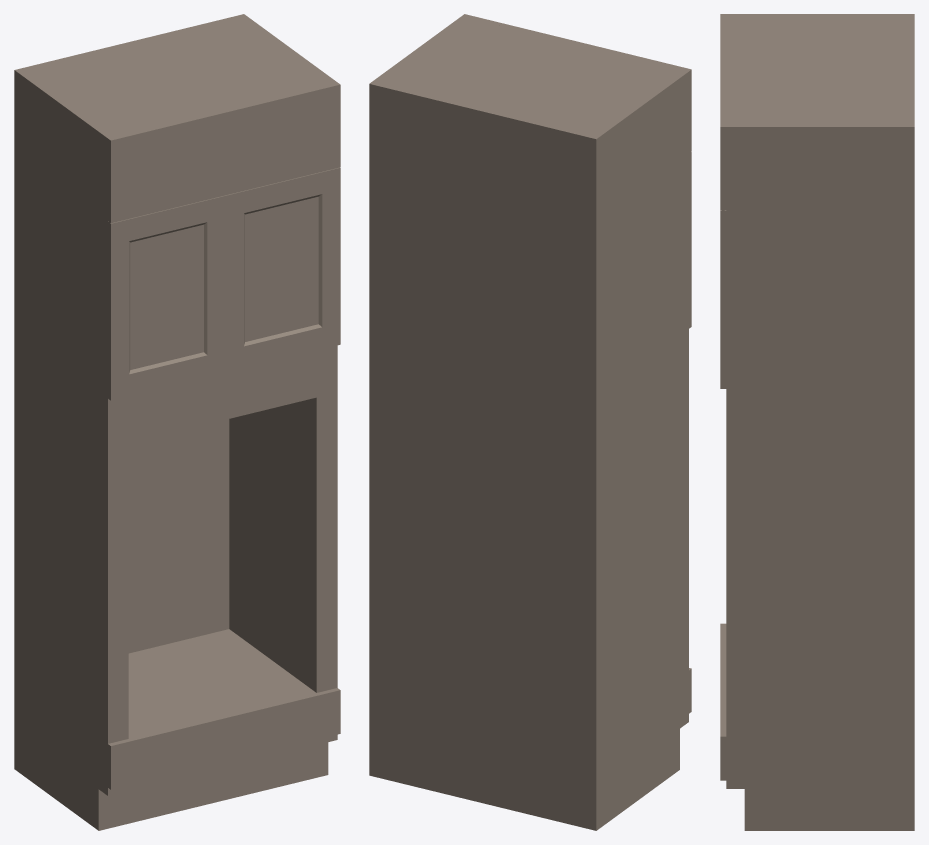
The model's file is WHP-Double-Tall-Oven-Cabinet_std_001_H96in_onlyH.glb.
The picture shows the model from 3 angles, left to right: view 1: azimuth 30°, elevation 25°; view 2: azimuth 150°, elevation 25°; view 3: azimuth 270°, elevation 25°; orthographic projection.
Visible parts, largest first — view 1: WHP-Double-Tall-Oven-Cabinet.std.001_H96in_onlyH; view 2: WHP-Double-Tall-Oven-Cabinet.std.001_H96in_onlyH; view 3: WHP-Double-Tall-Oven-Cabinet.std.001_H96in_onlyH.
Part boxes in pixels (x1,y1,x2,y2): WHP-Double-Tall-Oven-Cabinet.std.001_H96in_onlyH: (14,14,340,830); WHP-Double-Tall-Oven-Cabinet.std.001_H96in_onlyH: (369,14,691,830); WHP-Double-Tall-Oven-Cabinet.std.001_H96in_onlyH: (720,14,914,830).
Size of the model in its own units: 0.8382 by 2.44 by 0.6096.
